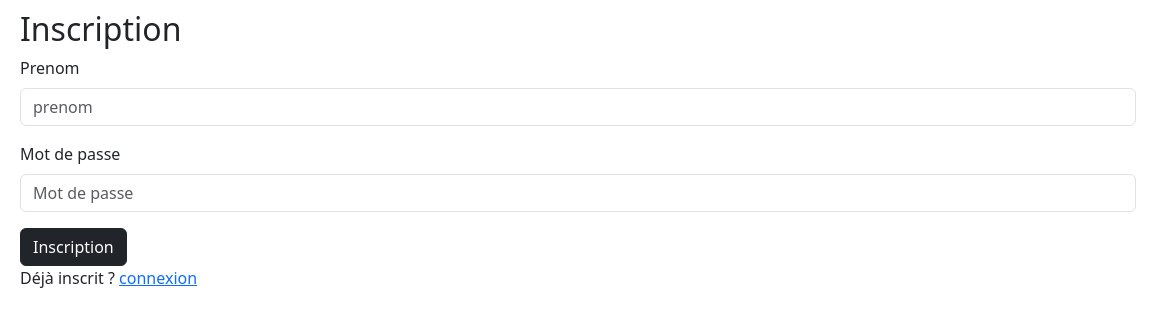
Test: inscription page › should display correct error message
This screenshot has width=1157, height=330.
Type "123" into the password field named "password". click: (578, 193)
box: left=20, top=174, right=1136, bottom=212
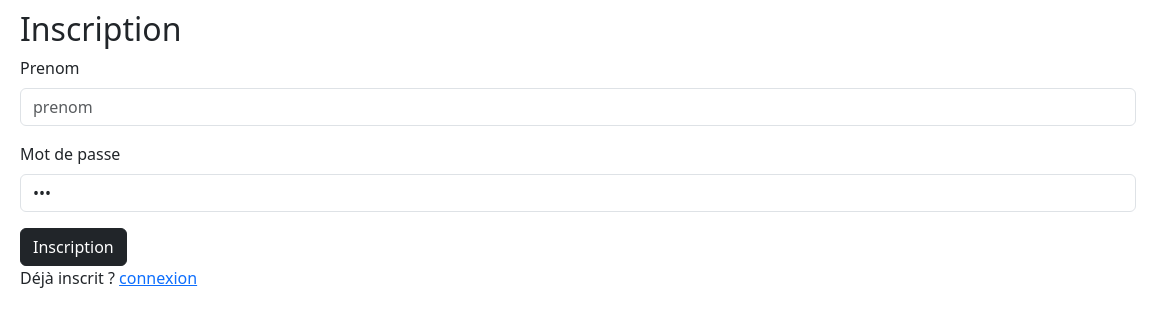
Click the button with aria-label "registerButton". click: click(73, 247)
box: left=20, top=228, right=127, bottom=266
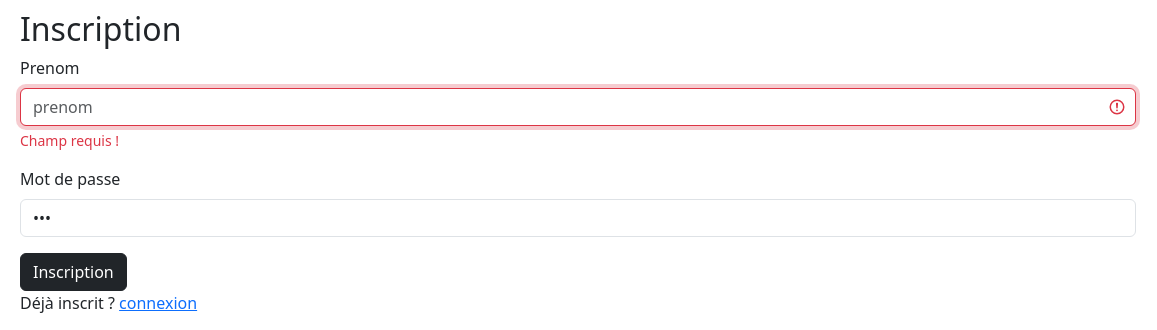
Result: the text "Champ requis !" is enabled at left=20, top=131, right=119, bottom=150
